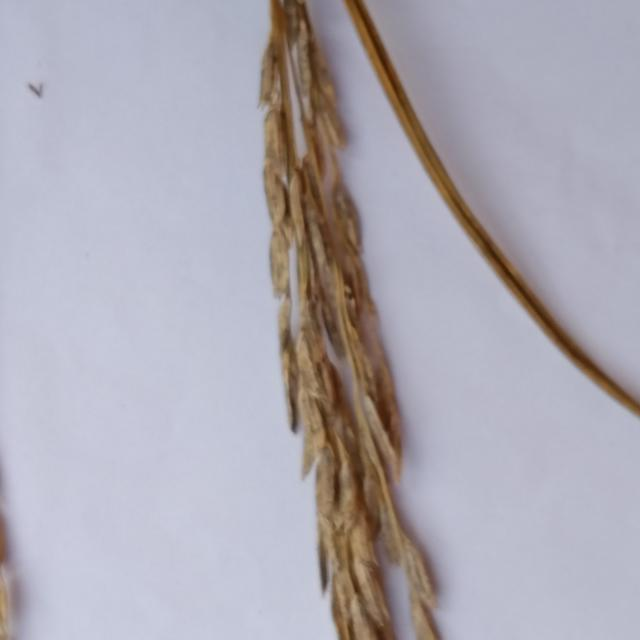Neck_Blast: (264, 2, 437, 640)
